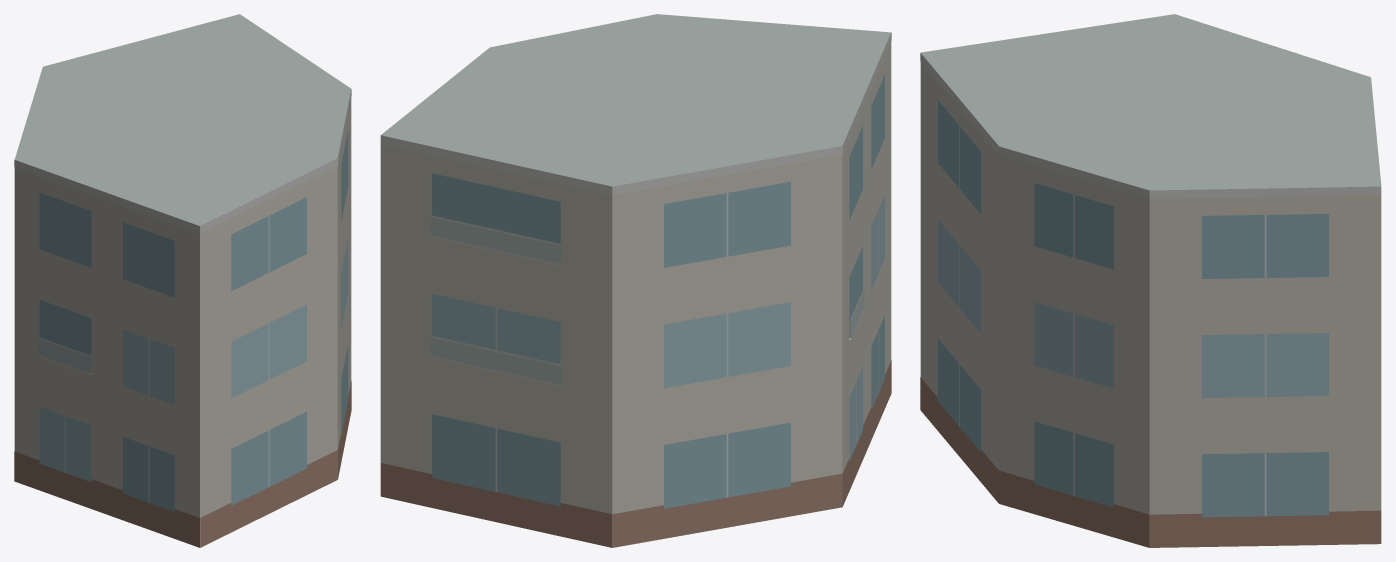
File: survey-upis-32517086.glb
3 views of the same model, side by side, from view 1: azimuth 30°, elevation 25°; view 2: azimuth 150°, elevation 25°; view 3: azimuth 270°, elevation 25° (orthographic). The views are drawn at different scales.
Parts seen in each view (by area): view 1: survey-upis-32517086.tmp; view 2: survey-upis-32517086.tmp; view 3: survey-upis-32517086.tmp.
Part boxes in pixels (left/top/right/bottom): survey-upis-32517086.tmp: left=14, top=14, right=351, bottom=547; survey-upis-32517086.tmp: left=380, top=14, right=891, bottom=547; survey-upis-32517086.tmp: left=920, top=14, right=1381, bottom=547.
Bounding box in the file's own units: 10.81 × 10.2 × 11.94.
